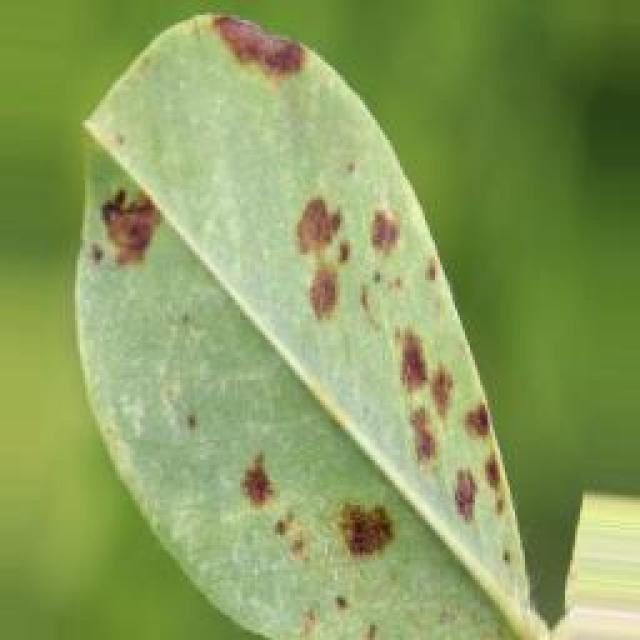Whitefly: (43, 4, 539, 640)
